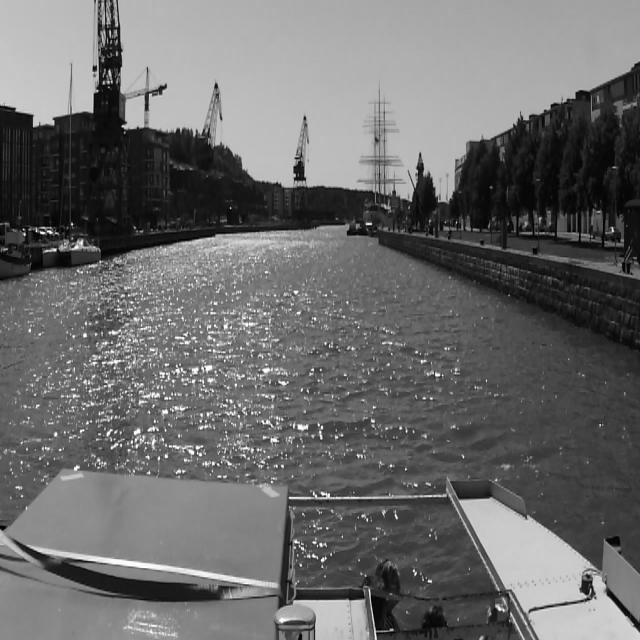ship: (41, 56, 101, 268), (356, 84, 406, 220), (1, 218, 30, 274), (345, 218, 359, 234), (369, 222, 381, 238), (358, 220, 366, 236)
